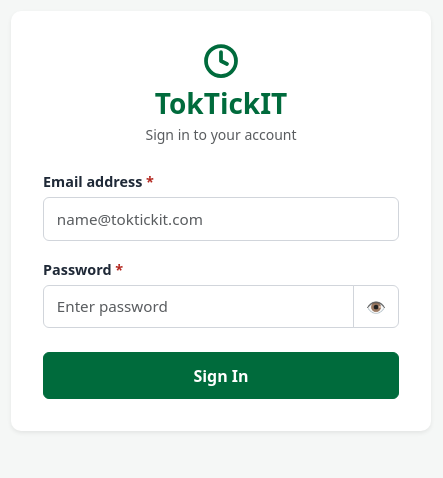
Login Component (UI-01, AC-01, FR-01) › renders safe error message when login fails
Step 1. Type "inactive.test@kmutt.ac.th" into the field labelled "Email address *" → (221, 219), box x1=43 y1=197 x2=399 y2=241
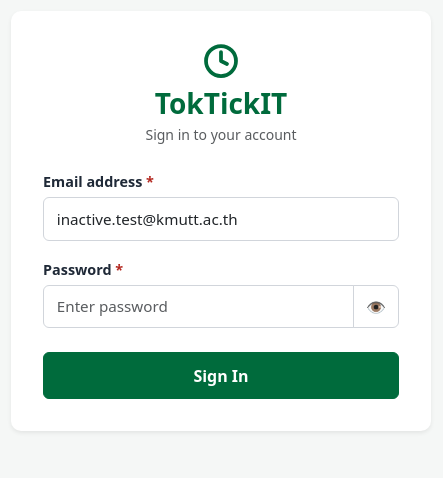
Step 2. Type "WrongPassword!" into the password field with placeholder "Enter password" → (198, 306), box x1=43 y1=284 x2=354 y2=328
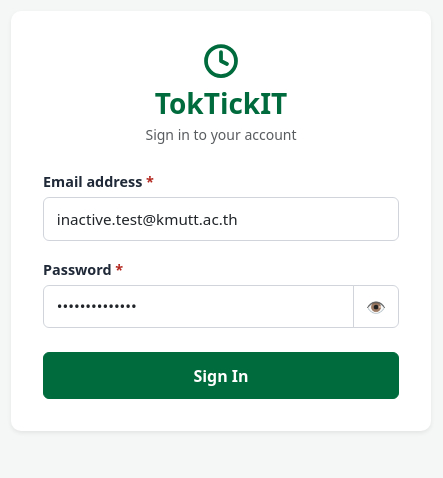
Step 3. Click the button "Sign In" → click(221, 376), box x1=43 y1=352 x2=399 y2=399
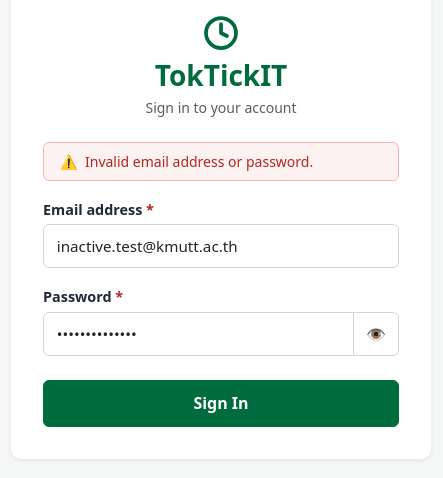
Now the text "Invalid email address or password." is shown, box x1=85 y1=151 x2=313 y2=172
